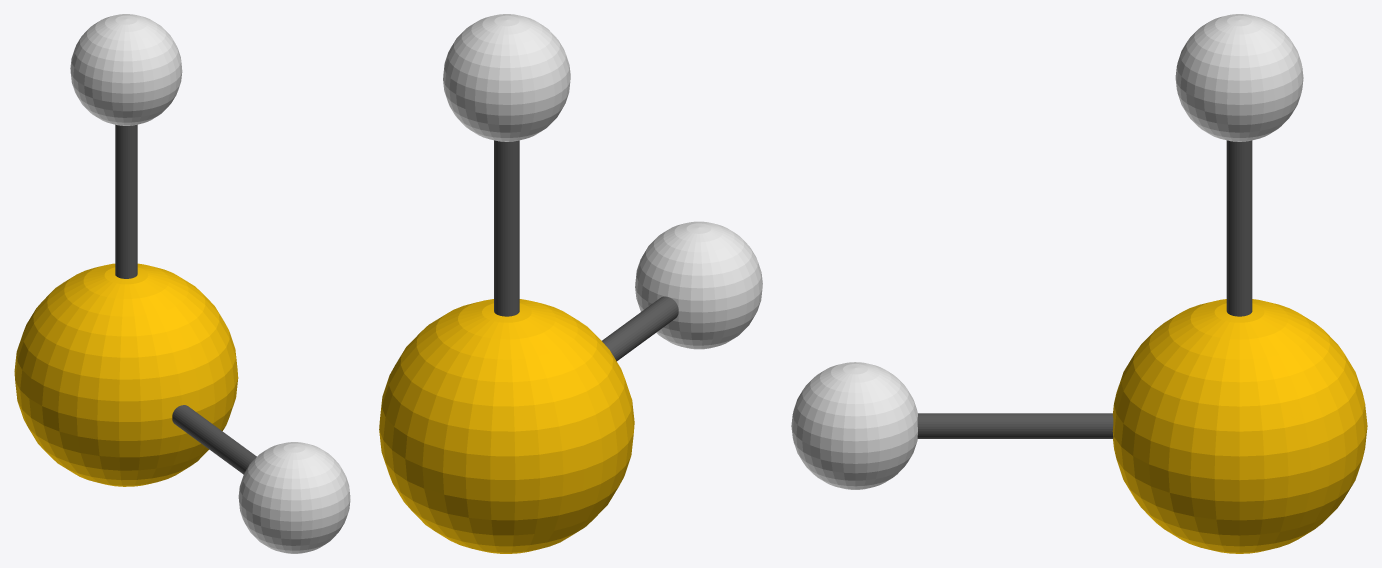
Rendered from SulfurCor.fbx.
The picture shows the model from 3 angles, left to right: view 1: azimuth 30°, elevation 25°; view 2: azimuth 150°, elevation 25°; view 3: azimuth 270°, elevation 25°; orthographic projection. The views are drawn at different scales.
Visible parts, largest first — view 1: Sphere, H4, H2, C1, C3; view 2: Sphere, H4, H2, C1, C3; view 3: Sphere, H4, H2, C3, C1.
Part boxes in pixels (bbox=[...]): Sphere: bbox=[14, 263, 238, 486]; H4: bbox=[70, 14, 182, 125]; H2: bbox=[238, 442, 350, 553]; C1: bbox=[115, 124, 137, 278]; C3: bbox=[172, 405, 256, 474]; Sphere: bbox=[379, 299, 634, 553]; H4: bbox=[443, 14, 570, 141]; H2: bbox=[635, 221, 762, 349]; C1: bbox=[494, 140, 519, 316]; C3: bbox=[602, 296, 678, 361]; Sphere: bbox=[1112, 299, 1367, 553]; H4: bbox=[1175, 14, 1303, 141]; H2: bbox=[791, 362, 917, 489]; C3: bbox=[917, 413, 1113, 438]; C1: bbox=[1226, 140, 1252, 316].
Bounding box in the file's own units: 20 × 45 × 45.
